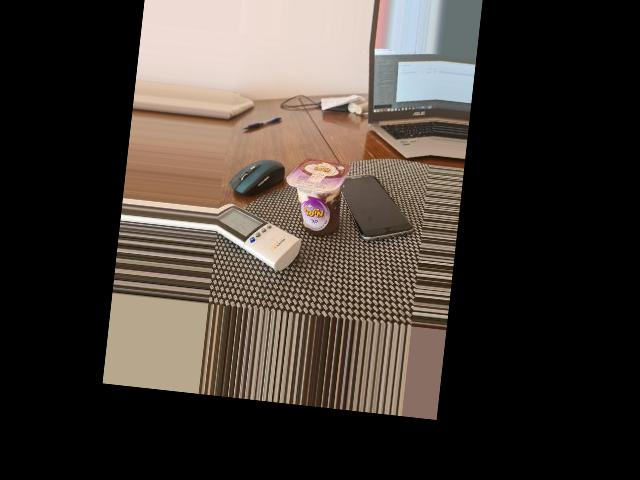milky: (287, 156, 352, 238)
